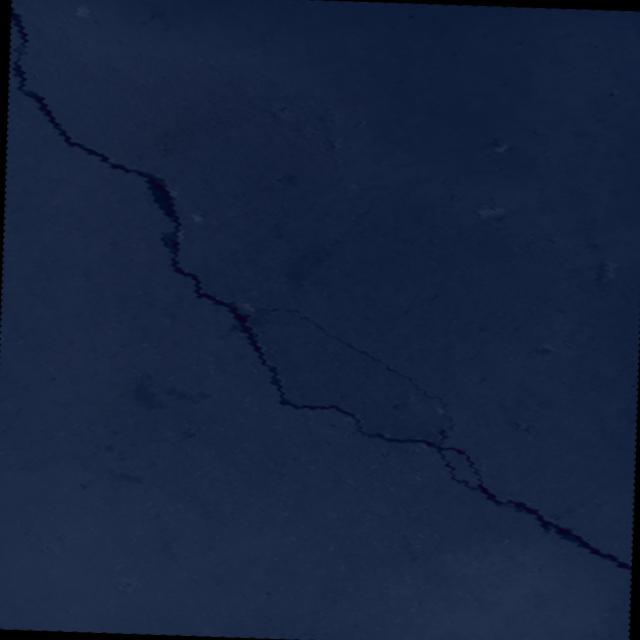crack: (0, 4, 640, 572)
